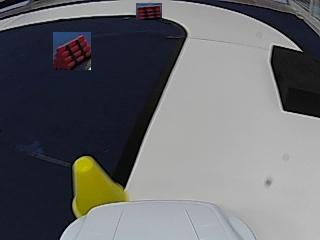block: (270, 43, 317, 116)
cone: (73, 157, 128, 203)
